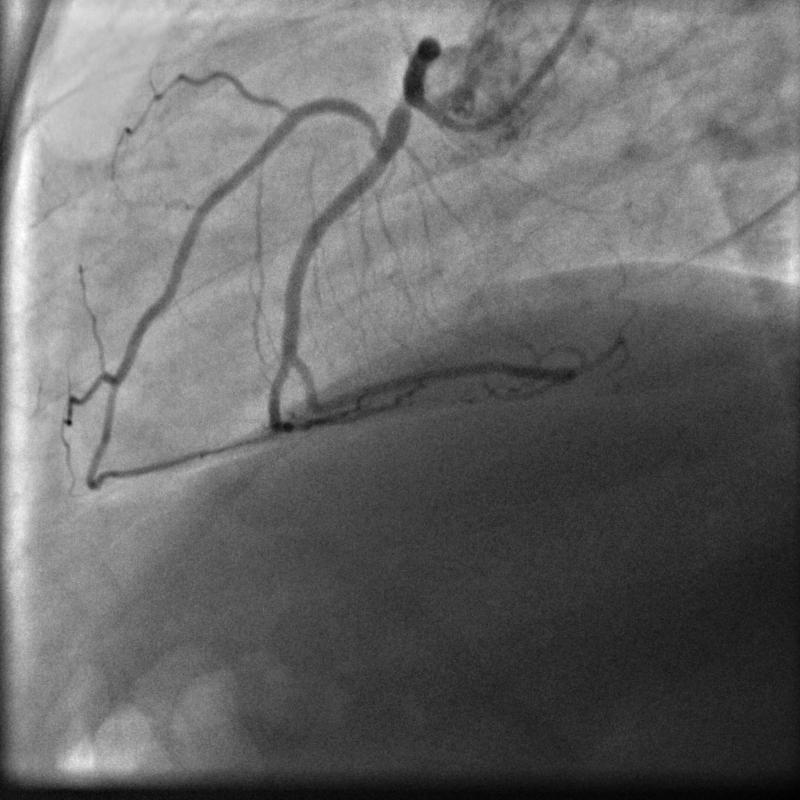Stenosis: (395, 86, 419, 110)
